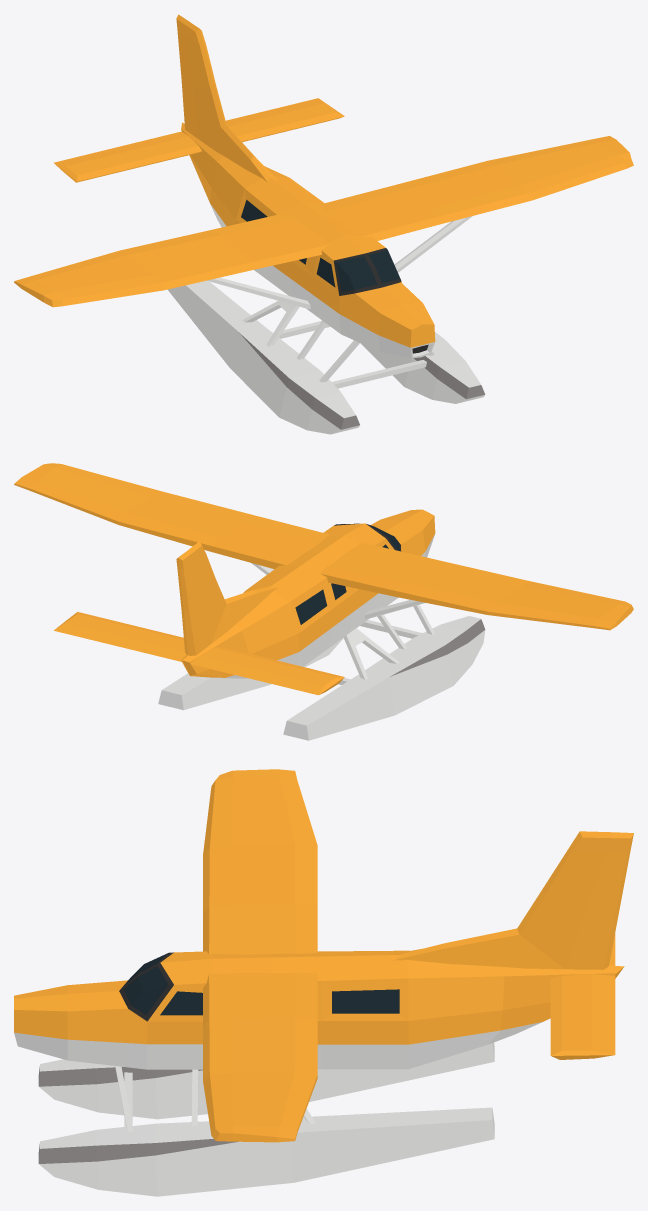
File: floatplane-base.glb
The picture shows the model from 3 angles, top to bottom: view 1: azimuth 30°, elevation 25°; view 2: azimuth 150°, elevation 25°; view 3: azimuth 270°, elevation 25°; orthographic projection. The views are drawn at different scales.
Visible parts, largest first — view 1: floatplane-base; view 2: floatplane-base; view 3: floatplane-base.
Part boxes in pixels (left/top/right/bottom): floatplane-base: left=14, top=14, right=633, bottom=434; floatplane-base: left=14, top=463, right=633, bottom=740; floatplane-base: left=14, top=769, right=633, bottom=1196.
Bounding box in the file's own units: 13.7 × 5.4 × 9.73.
1 material, 1 textured.
